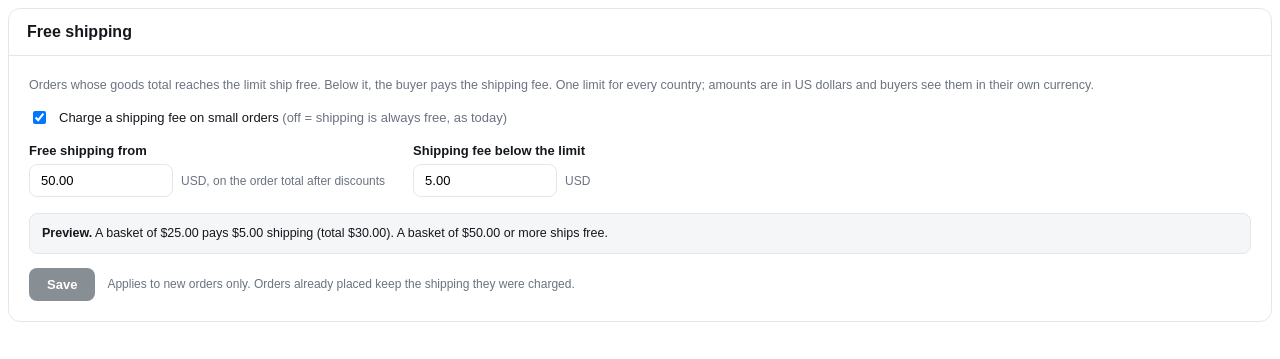
the checks before saving › a limit or a fee of 0 with the switch on is explained and cannot be saved; the preview asks for a fix
Replace the text in the field labelled "Free shipping from" with "0" at (101, 181), box left=29, top=164, right=173, bottom=197
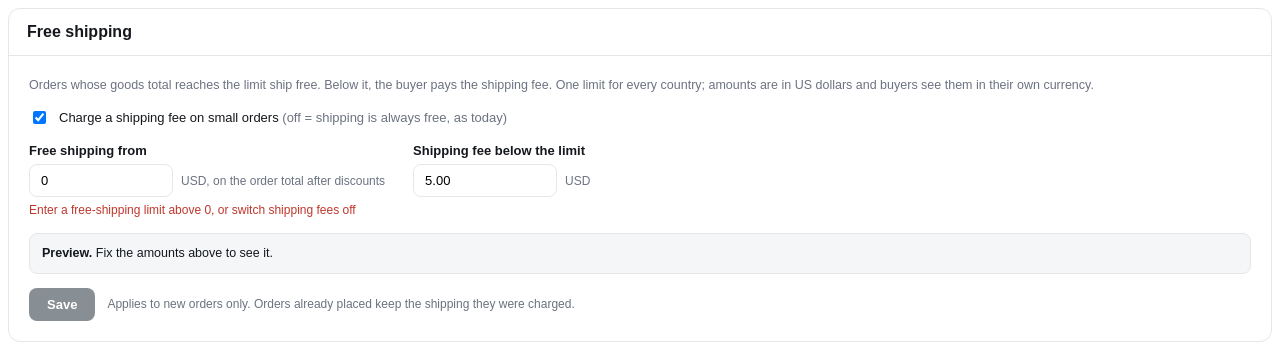
Expected: the button "Save" is disabled, left=29, top=288, right=95, bottom=321
Now the text "Enter a free-shipping limit above 0, or switch shipping fees off" is shown, box left=29, top=203, right=385, bottom=217
Now the element with test id "free-shipping-preview" shows "Fix the amounts above", box left=96, top=246, right=273, bottom=260
Replace the text in the field labelled "Free shipping from" with "50" at (101, 181), box left=29, top=164, right=173, bottom=197
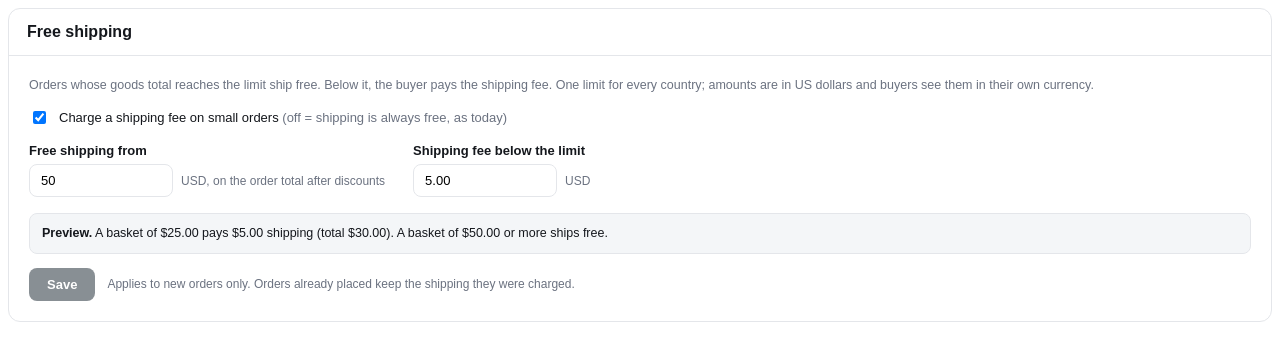
Replace the text in the field labelled "Shipping fee below the limit" with "0" at (485, 181), box left=413, top=164, right=557, bottom=197
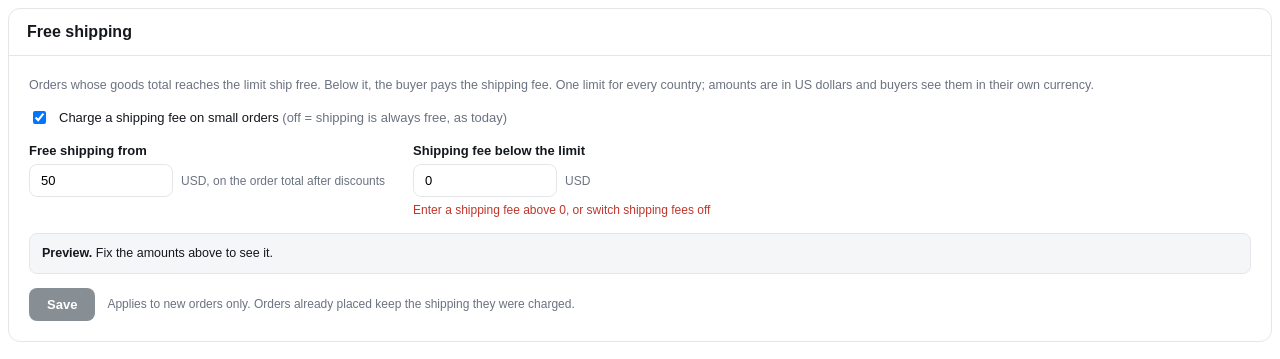
Expected: the button "Save" is disabled, left=29, top=288, right=95, bottom=321
Now the text "Enter a shipping fee above 0, or switch shipping fees off" is shown, box left=413, top=203, right=710, bottom=217
